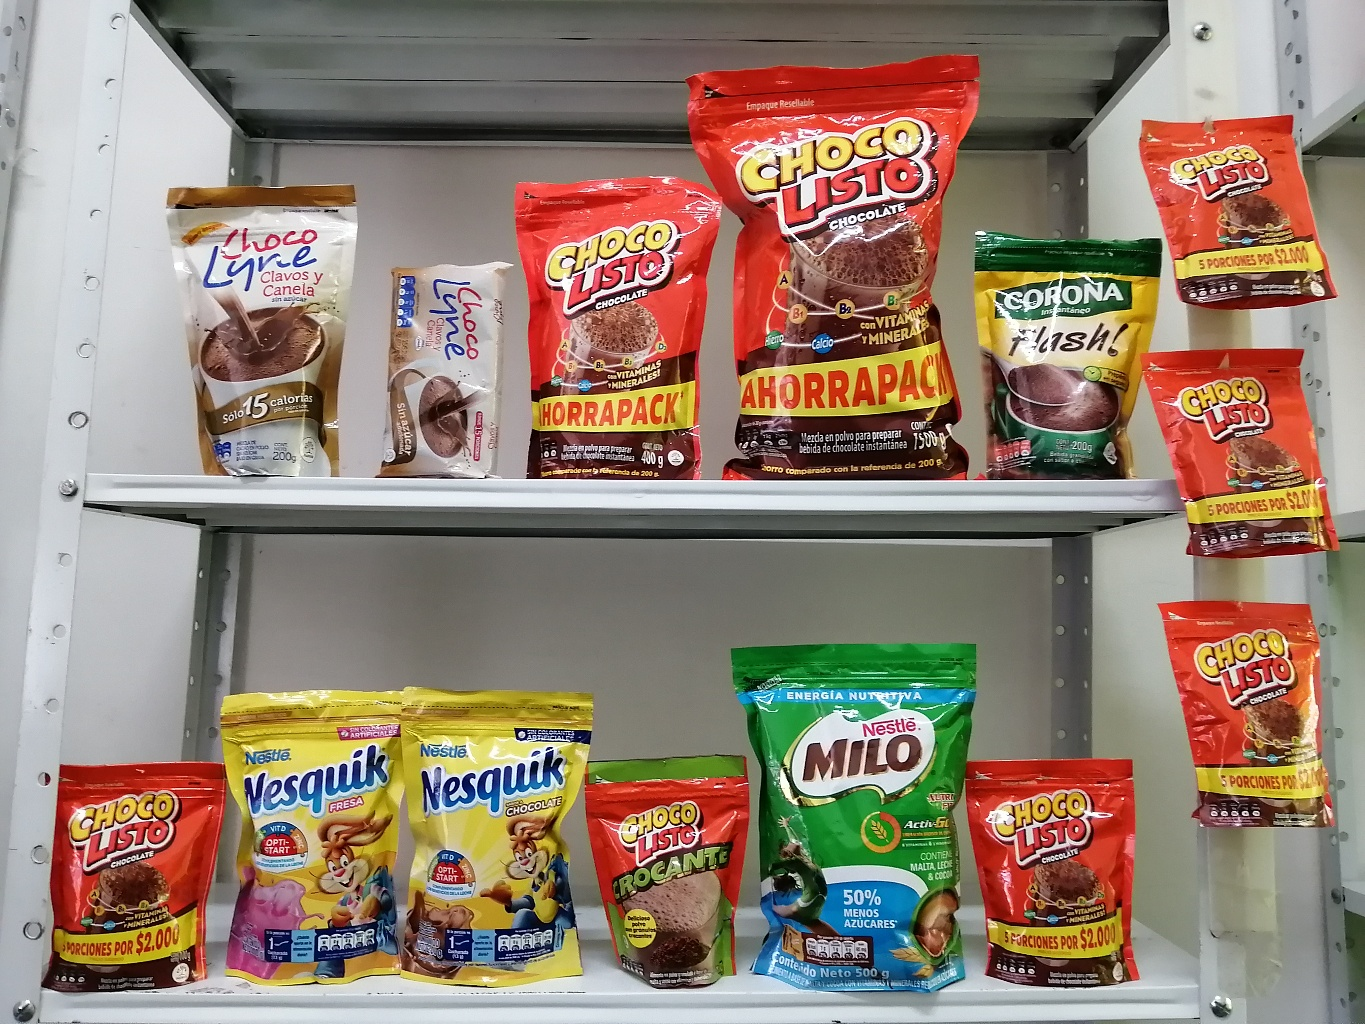COL0170102DYP10000: (586, 743, 750, 989)
COL0170103DYP1,500: (688, 60, 1004, 480)
COL0170103DYP10000: (1134, 112, 1347, 318)
COL0170103DYP40000: (518, 171, 734, 478)
COL0170205DYP50000: (716, 634, 989, 990)
COL0170303DYP20000: (410, 692, 608, 981)
COL0170305DYP20000: (209, 687, 410, 984)
